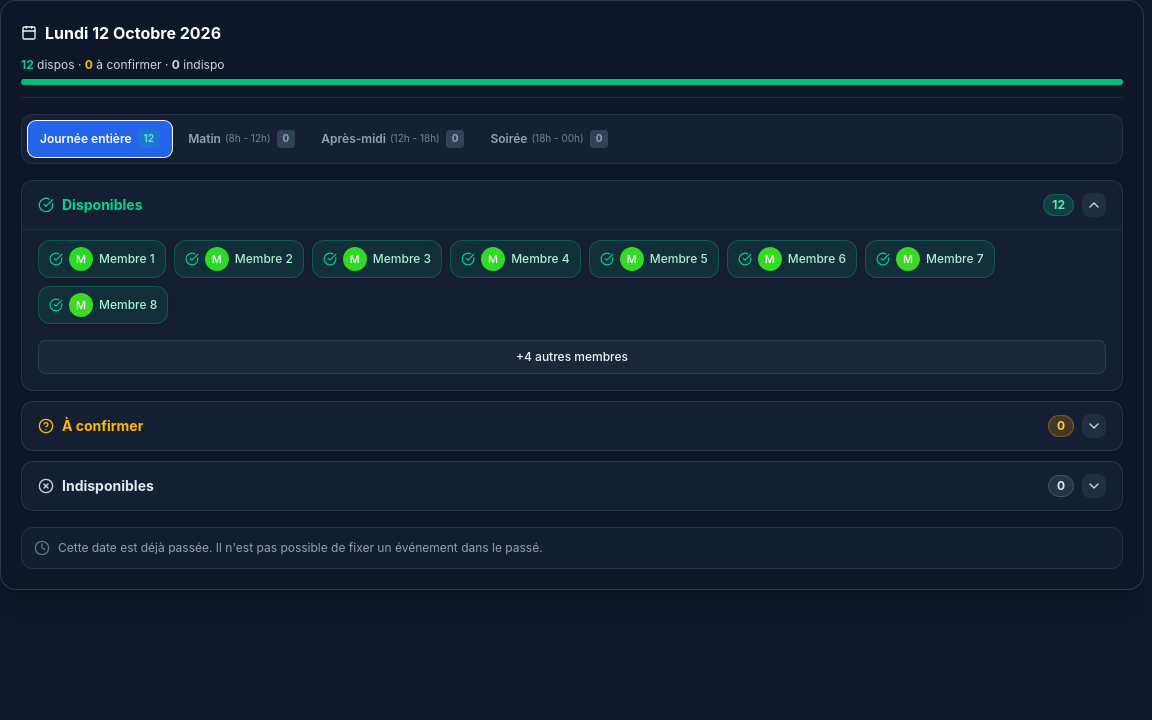
Test: DayAvailabilityDetails › shows +X button when list of members exceeds 8 and expands on click
Check: the text "Membre 1" is shown, box 99,251 -> 155,267
Check: the text "Membre 8" is shown, box 99,297 -> 157,313
Clic pour déplier
Click the button "+4 autres membres": (572, 357) 38,340 -> 1106,374
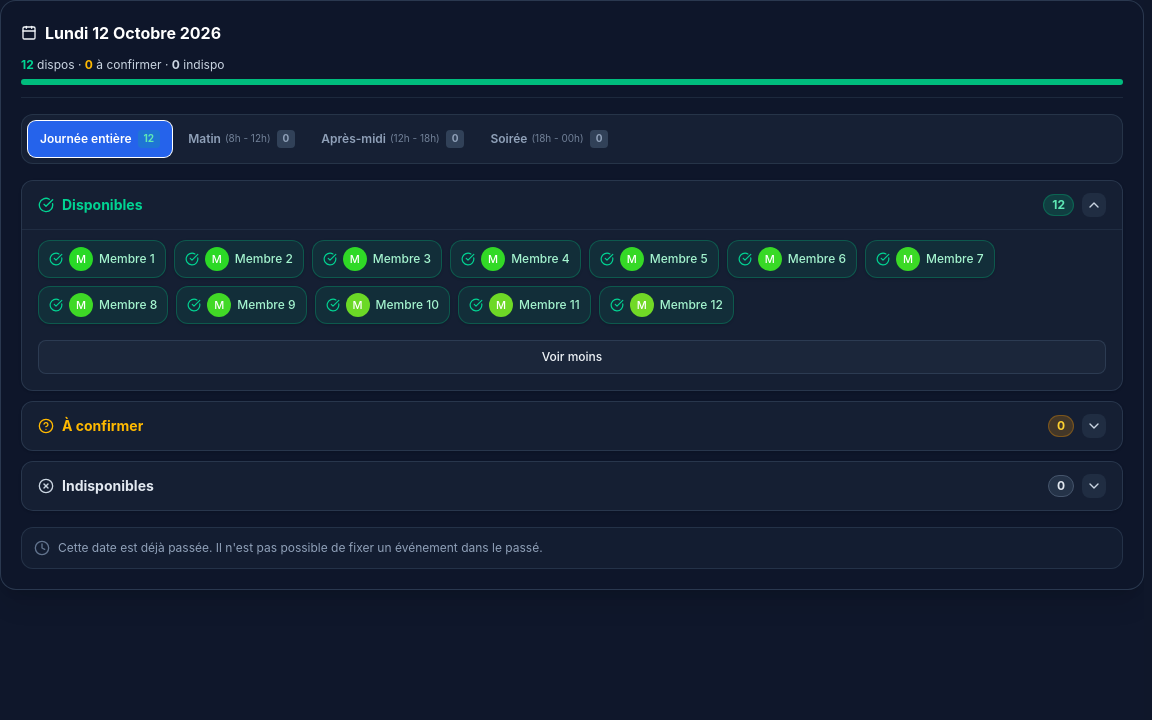
Check: the text "Membre 9" is shown, box 237,297 -> 296,313
Check: the text "Membre 12" is shown, box 660,297 -> 723,313
Check: the button "Voir moins" is shown, box 38,340 -> 1106,374
